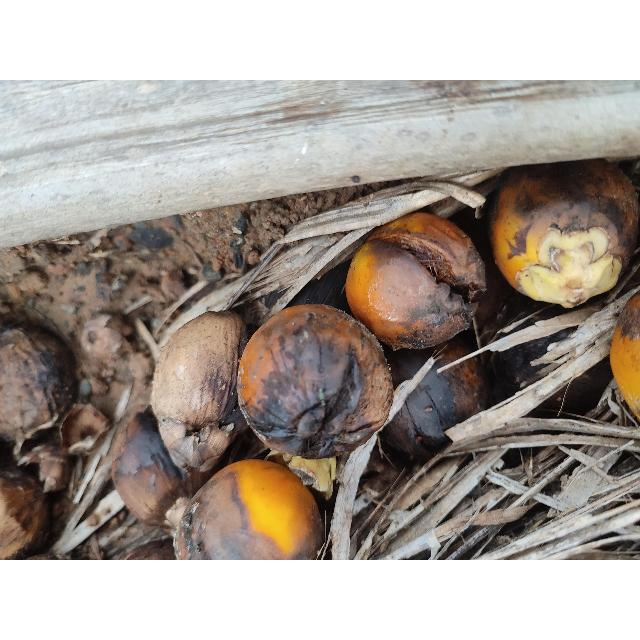damaged: (486, 159, 640, 305), (238, 308, 366, 458), (352, 213, 484, 349), (486, 288, 624, 414), (175, 457, 319, 559), (383, 333, 491, 461), (110, 411, 222, 531), (152, 310, 250, 446), (0, 323, 78, 445), (0, 445, 54, 559), (51, 262, 118, 324), (6, 264, 52, 304)
